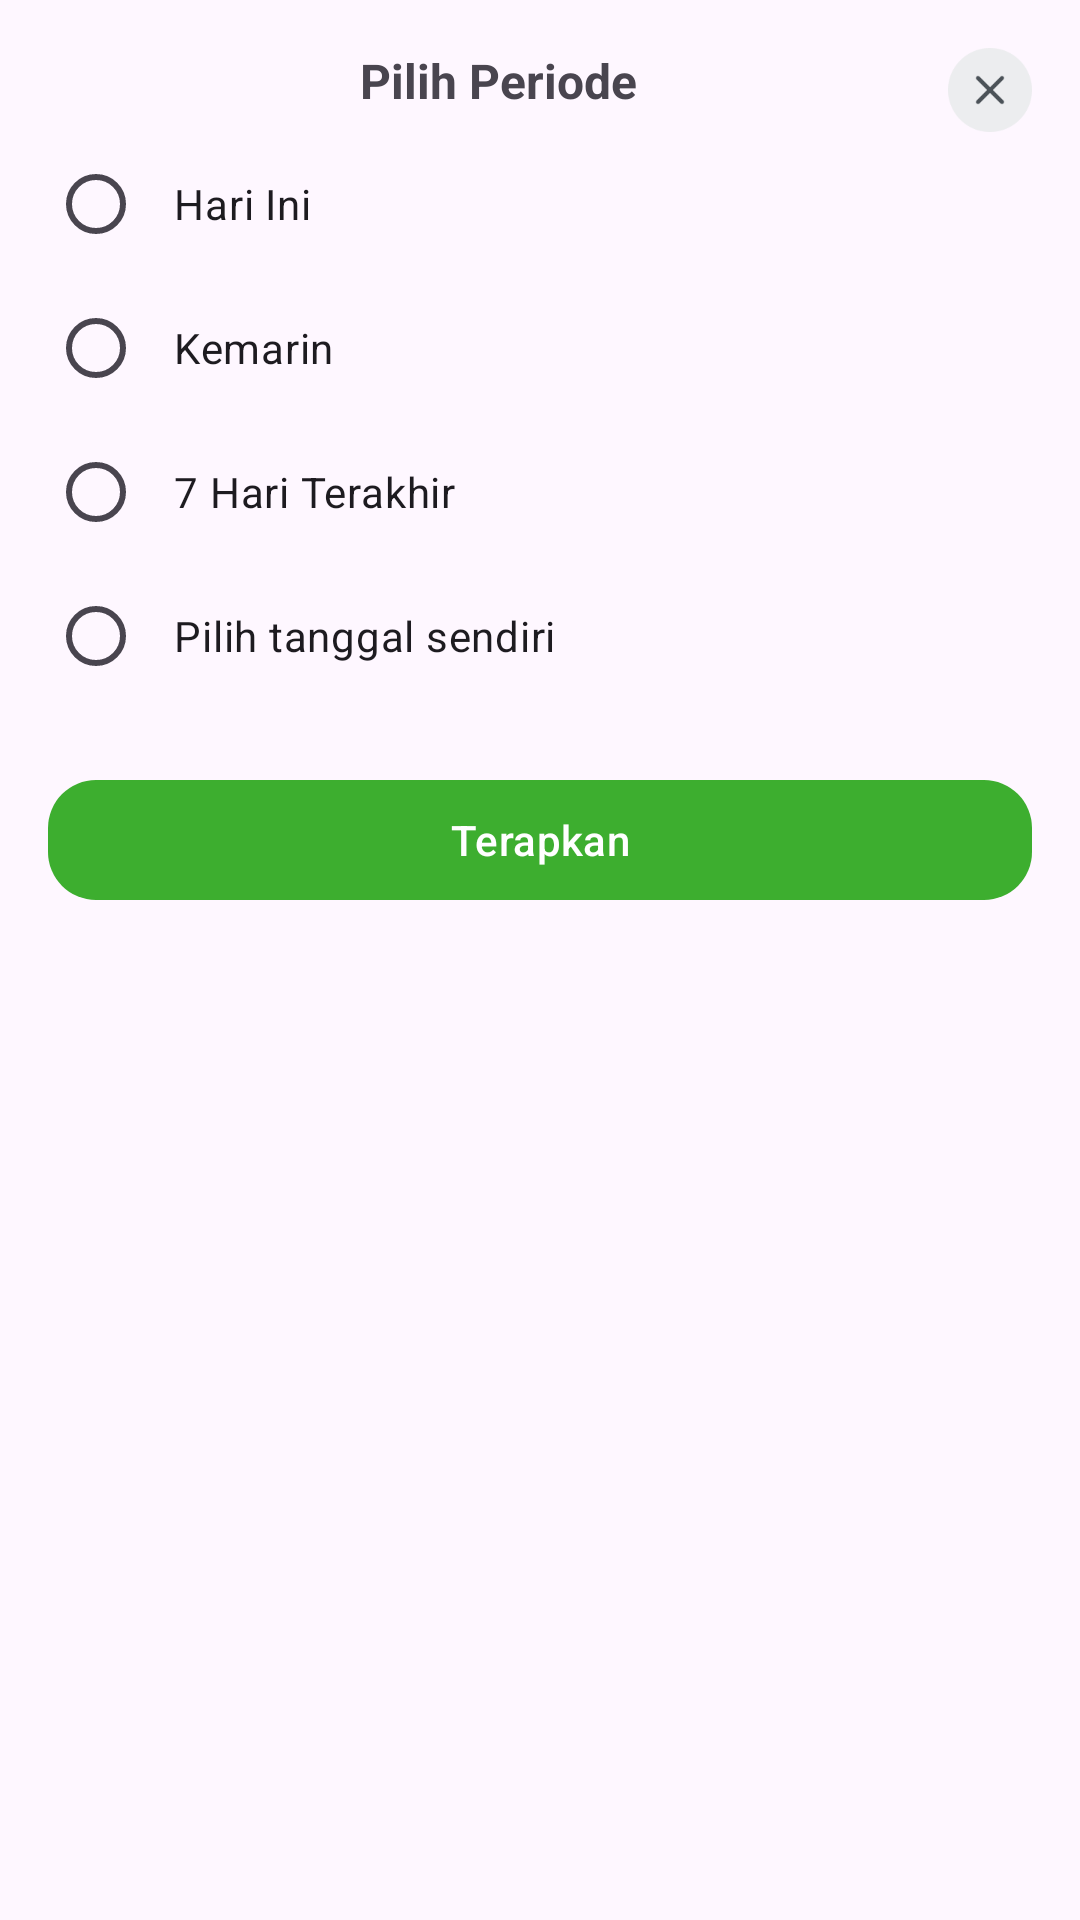

Point at icon controls on the screen. Image size 1080px x 1920px, points as (x=x, y=y).
close: (x=990, y=90)
